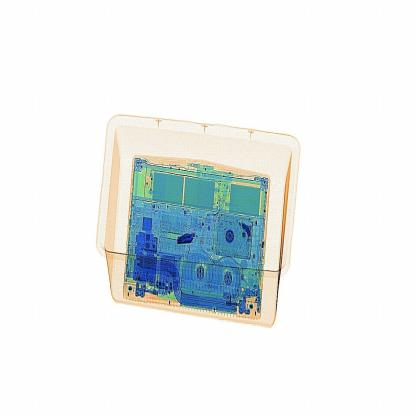knife: (174, 230, 198, 249)
